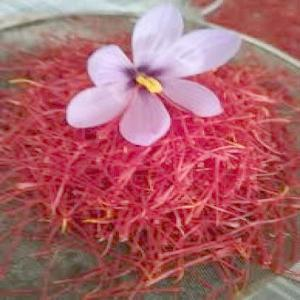Saffron: (66, 5, 242, 146)
